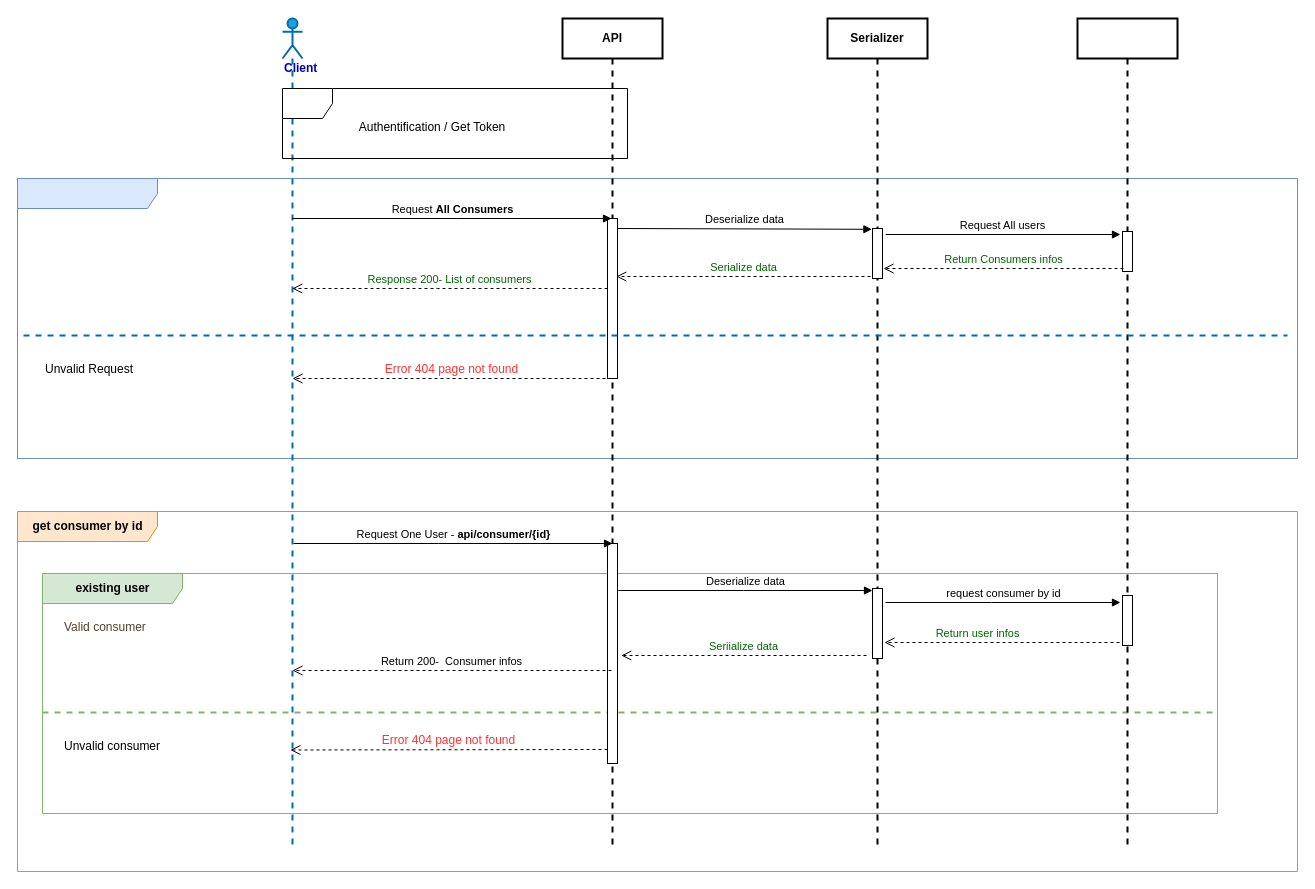
This 1315x889 diagram has some shape labels left out. The shapes that lost their labels are listed below. From the top down, each one's box as (x1, y1, x2, y2) in pixels, then its label:
(282, 88, 628, 158): ref
(16, 178, 1298, 458): get all consumers
(1076, 17, 1178, 849): SGBD
